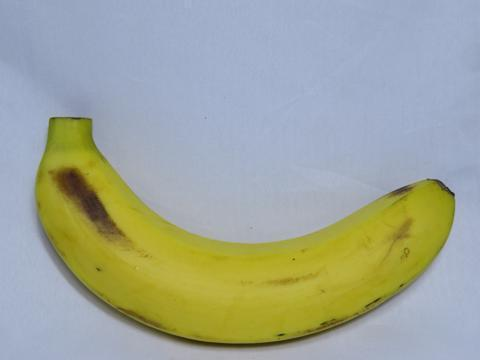freshripe: (23, 94, 469, 355)
